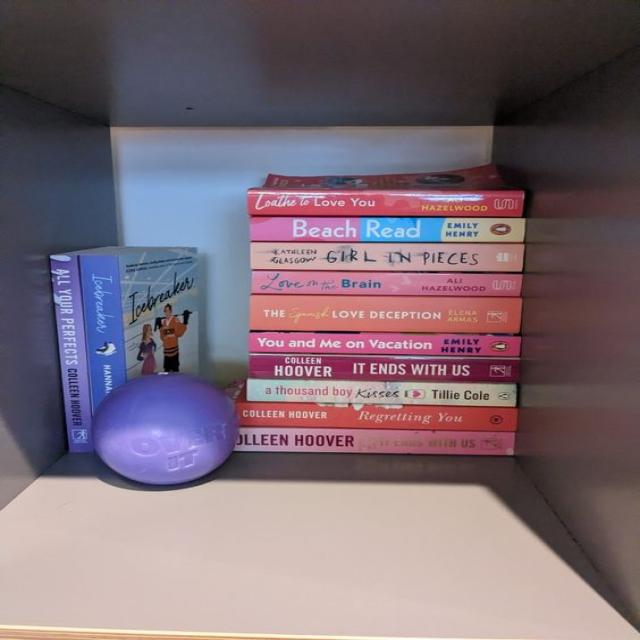book: (249, 295, 520, 334), (238, 397, 516, 432), (49, 254, 93, 450), (247, 189, 524, 218), (250, 354, 519, 383), (236, 427, 514, 455), (250, 243, 523, 271), (81, 254, 127, 413), (246, 380, 516, 407), (250, 217, 524, 243), (251, 272, 522, 296), (250, 334, 520, 357)
